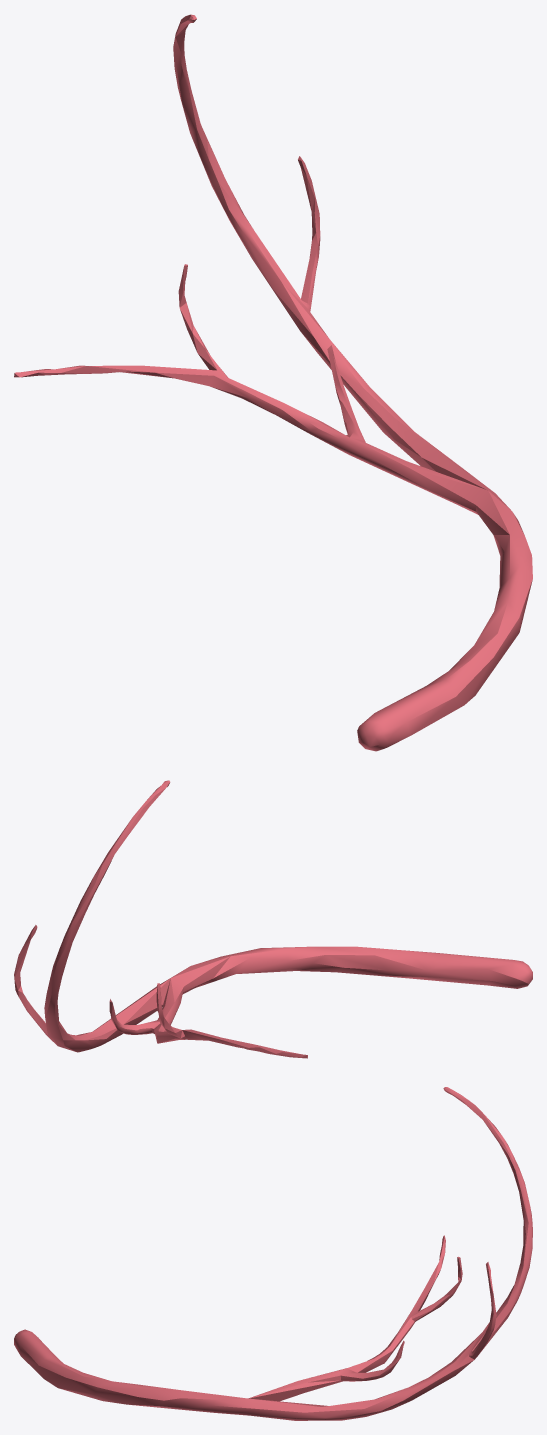
File: fma50671_fj1675m.glb
The picture shows the model from 3 angles, top to bottom: view 1: azimuth 30°, elevation 25°; view 2: azimuth 150°, elevation 25°; view 3: azimuth 270°, elevation 25°; orthographic projection. The views are drawn at different scales.
Parts seen in each view (by area): view 1: FMA50671_FJ1675M; view 2: FMA50671_FJ1675M; view 3: FMA50671_FJ1675M.
Boxes of the visible parts, bbox=[...] form: FMA50671_FJ1675M: bbox=[14, 14, 532, 751]; FMA50671_FJ1675M: bbox=[14, 780, 532, 1058]; FMA50671_FJ1675M: bbox=[14, 1087, 532, 1420].
Bounding box in the file's own units: 0.0193 × 0.025 × 0.0381.
